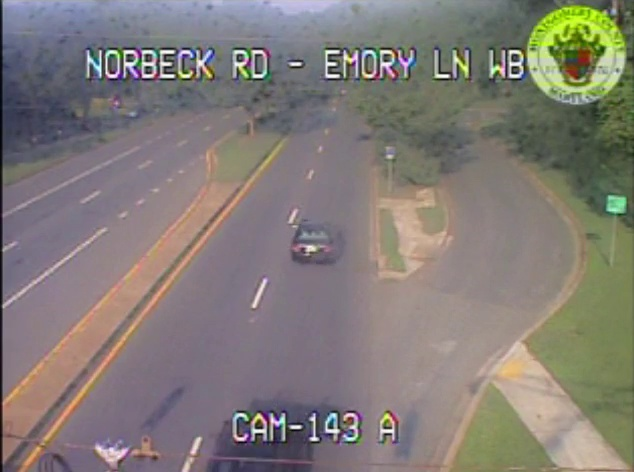car: (290, 222, 336, 261)
